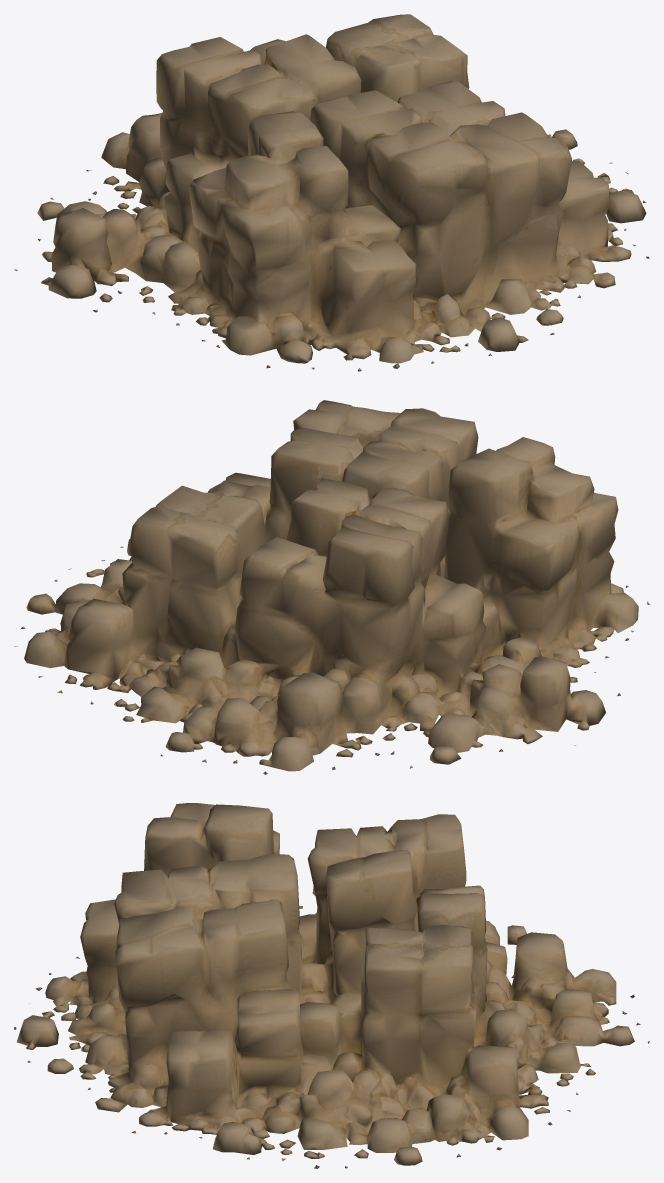
Rendered from rocks (2).glb.
3 views of the same model, one above another, from view 1: azimuth 30°, elevation 25°; view 2: azimuth 150°, elevation 25°; view 3: azimuth 270°, elevation 25° (orthographic).
Parts seen in each view (by area): view 1: tripo_node_5d8c35b7-c2d0-43a5-bce7-3d73ef33ea84; view 2: tripo_node_5d8c35b7-c2d0-43a5-bce7-3d73ef33ea84; view 3: tripo_node_5d8c35b7-c2d0-43a5-bce7-3d73ef33ea84.
Part boxes in pixels (left/top/right/bottom): tripo_node_5d8c35b7-c2d0-43a5-bce7-3d73ef33ea84: left=14, top=14, right=649, bottom=371; tripo_node_5d8c35b7-c2d0-43a5-bce7-3d73ef33ea84: left=14, top=400, right=649, bottom=774; tripo_node_5d8c35b7-c2d0-43a5-bce7-3d73ef33ea84: left=14, top=803, right=649, bottom=1168.
Size of the model in its own units: 0.998 by 0.2949 by 0.9941.
Materials: 1 (1 with a texture image).
